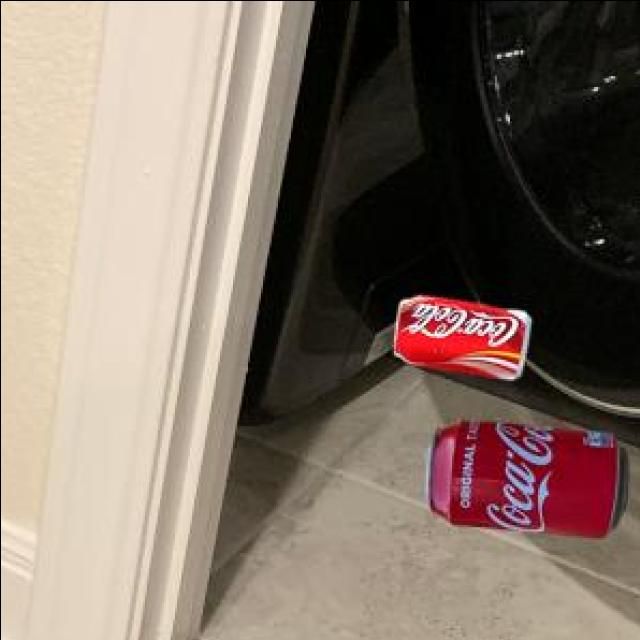logam: (422, 416, 624, 534), (391, 291, 527, 375)
